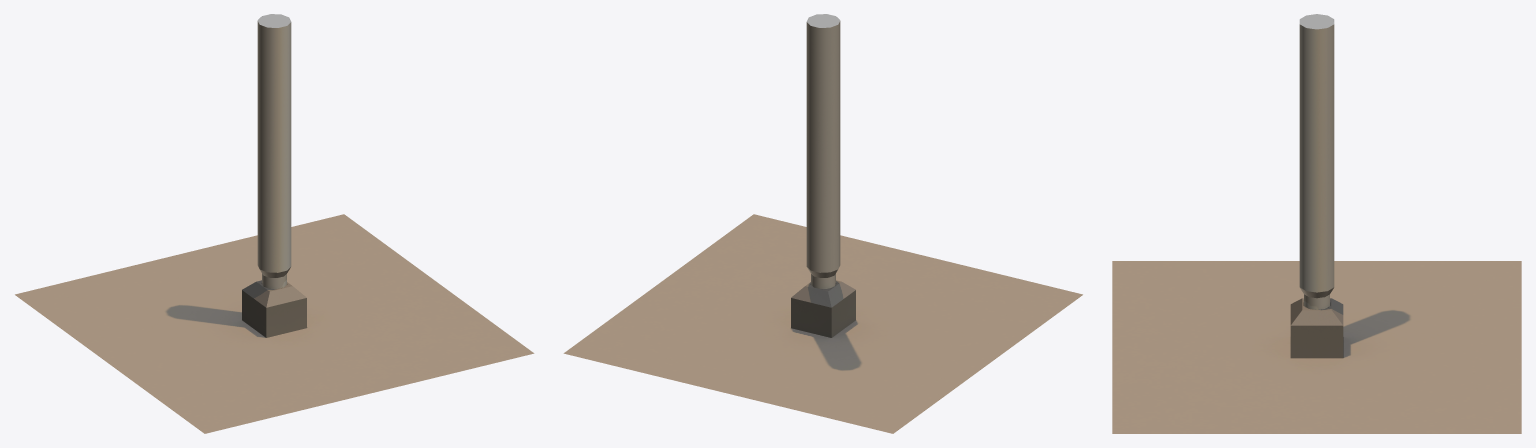
Rendered from test_pipe.gltf.
The picture shows the model from 3 angles, left to right: view 1: azimuth 30°, elevation 25°; view 2: azimuth 150°, elevation 25°; view 3: azimuth 270°, elevation 25°; orthographic projection. The views are drawn at different scales.
Visible parts, largest first — view 1: Plane001; view 2: Plane001; view 3: Plane001.
Part boxes in pixels (x1,y1,x2,y2): Plane001: (15, 14, 534, 433); Plane001: (563, 14, 1082, 433); Plane001: (1112, 14, 1521, 433).
Bounding box in the file's own units: 20 × 17.56 × 20.
3 materials, 3 textured.
